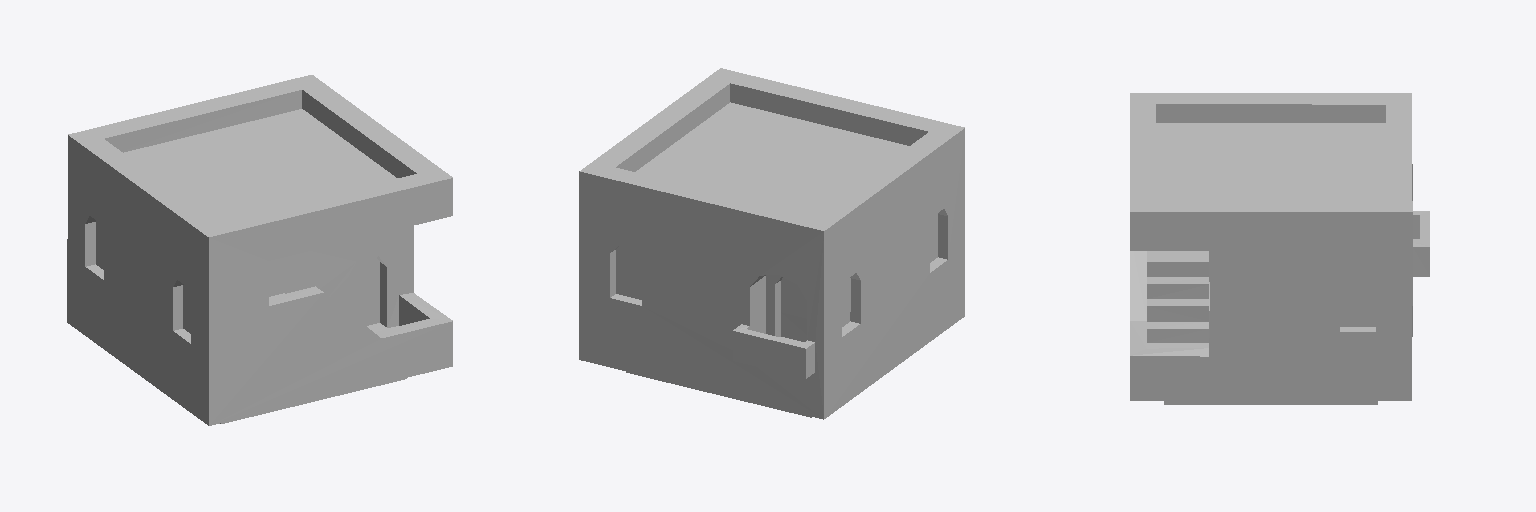
Rendered from mediumBlock.obj.
The picture shows the model from 3 angles: view 1: azimuth 30°, elevation 25°; view 2: azimuth 150°, elevation 25°; view 3: azimuth 270°, elevation 25°; orthographic projection.
Parts seen in each view (by area): view 1: BuildingBlock02; view 2: BuildingBlock02; view 3: BuildingBlock02.
Part boxes in pixels (left/top/right/bottom): BuildingBlock02: left=67, top=75, right=452, bottom=425; BuildingBlock02: left=579, top=68, right=964, bottom=419; BuildingBlock02: left=1130, top=93, right=1429, bottom=404.
Bounding box in the file's own units: 5.08 × 4.1 × 5.4.